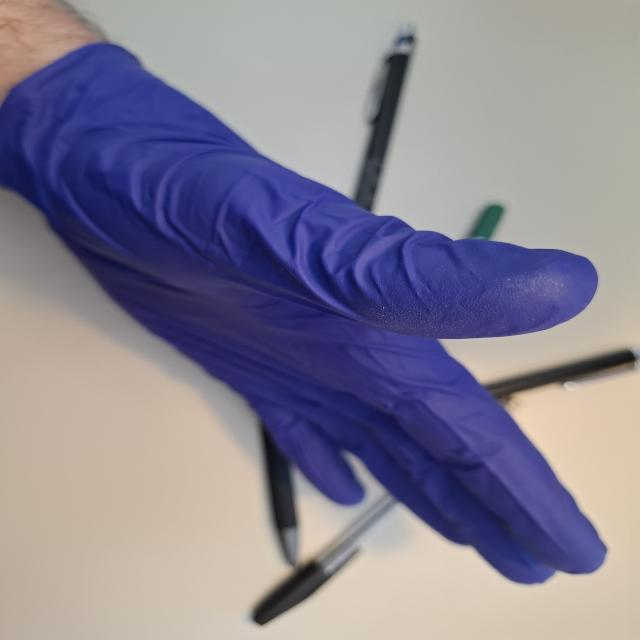glove_on: (0, 36, 615, 590)
